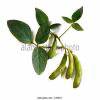Soyabean leaf: (7, 19, 33, 45), (32, 46, 48, 76), (34, 22, 50, 45), (34, 7, 49, 27), (71, 5, 84, 23)
